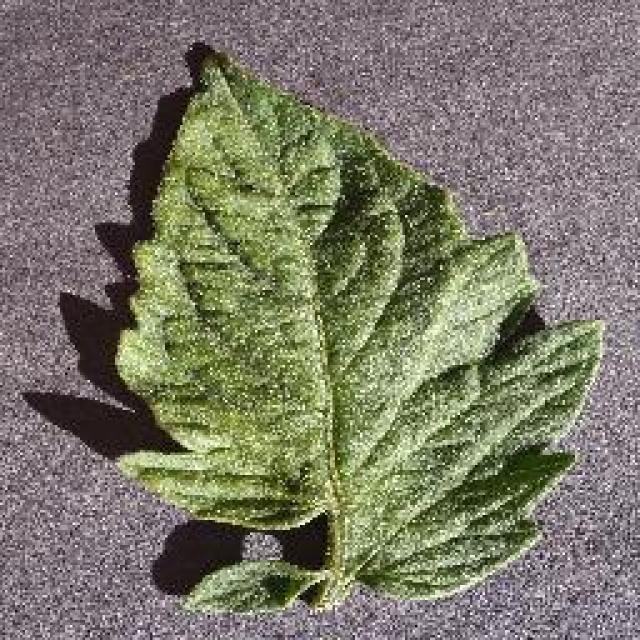Tomato_Healthy: (92, 44, 595, 616)
